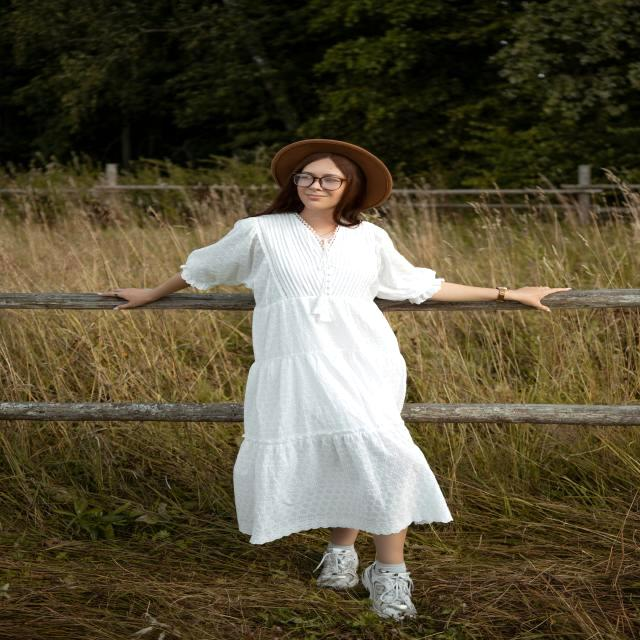no_hard_hat: (271, 141, 392, 211)
person: (91, 132, 581, 626)
